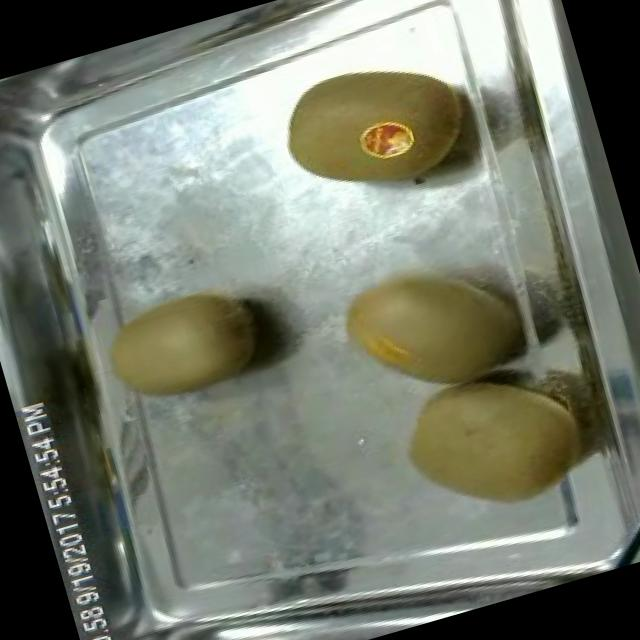Fruit: (380, 344, 600, 540), (263, 32, 486, 221), (323, 235, 538, 420), (85, 264, 285, 426)
